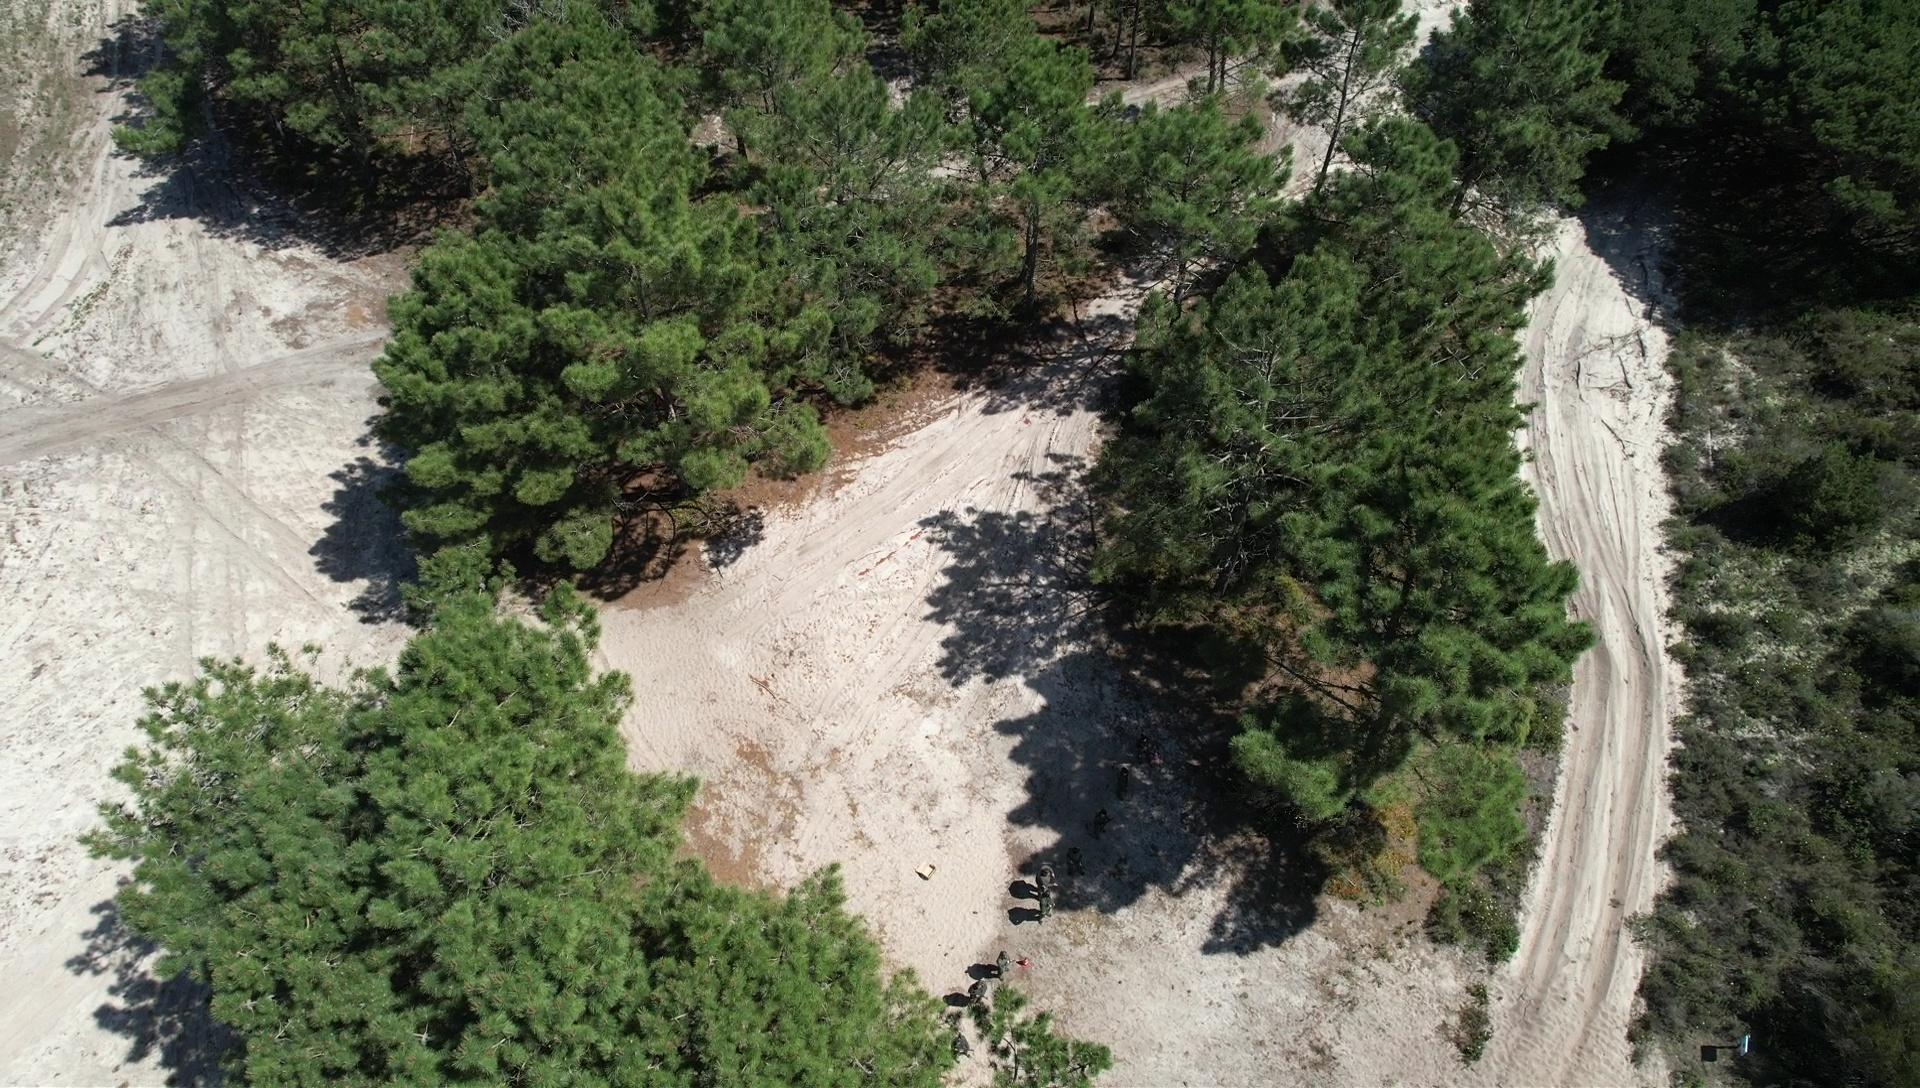Soldier: (1062, 841, 1092, 881), (1112, 762, 1138, 804), (1089, 804, 1114, 844), (992, 946, 1015, 981), (1035, 892, 1058, 926), (963, 977, 992, 1004), (1033, 860, 1058, 889), (949, 1033, 975, 1060), (1133, 731, 1153, 764)
